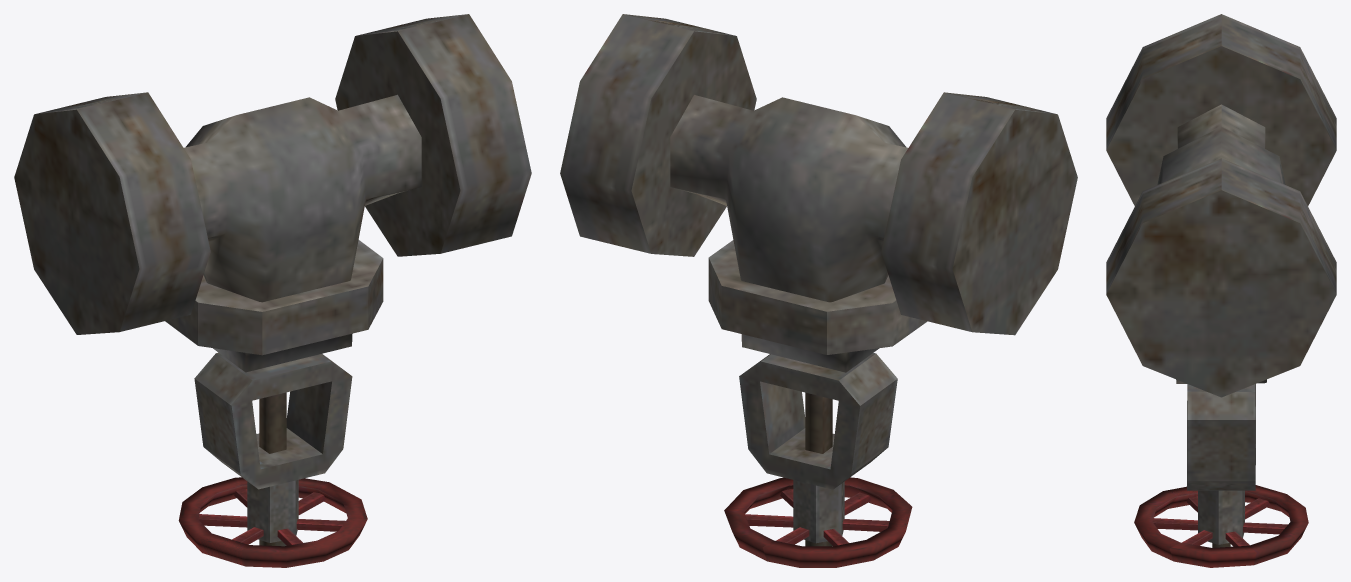
The model's file is nt_2020_pipes_modular_valve_LOD1.obj.
3 views of the same model, side by side, from view 1: azimuth 30°, elevation 25°; view 2: azimuth 150°, elevation 25°; view 3: azimuth 270°, elevation 25° (orthographic). The views are drawn at different scales.
Parts seen in each view (by area): view 1: mtl_nt_2020_pipes_modular_blue; view 2: mtl_nt_2020_pipes_modular_blue; view 3: mtl_nt_2020_pipes_modular_blue.
Boxes of the visible parts, bbox=[...] form: mtl_nt_2020_pipes_modular_blue: bbox=[14, 14, 531, 567]; mtl_nt_2020_pipes_modular_blue: bbox=[560, 14, 1077, 567]; mtl_nt_2020_pipes_modular_blue: bbox=[1106, 14, 1336, 567].
Bounding box in the file's own units: 94.39 × 112 × 52.22.
